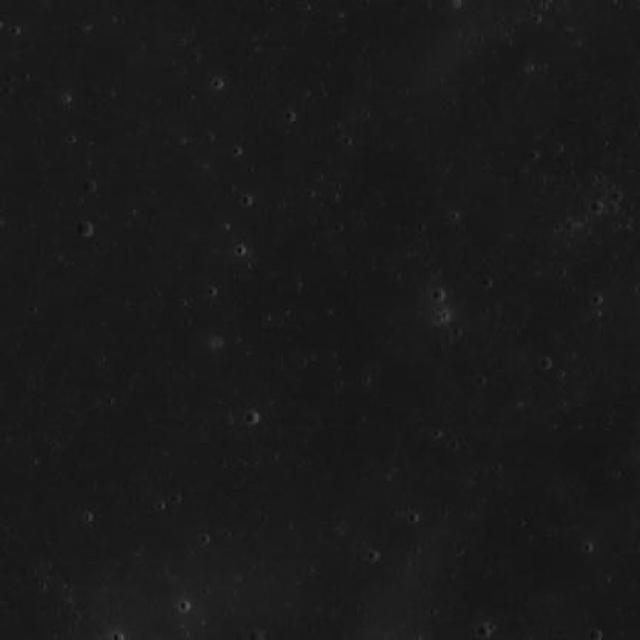crater: (77, 220, 94, 238)
